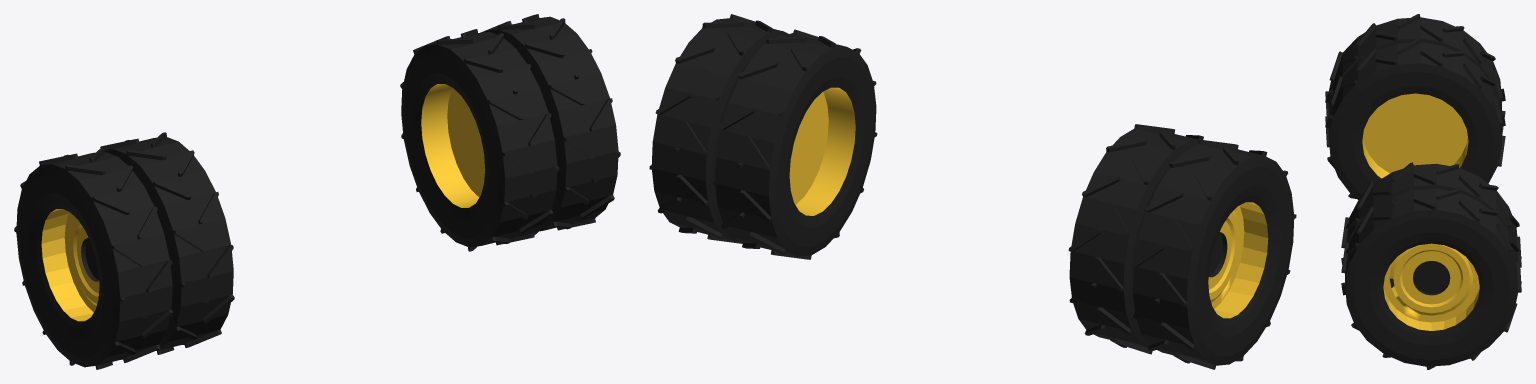
The model's file is Front_Combine_Tires.fbx.
3 renders of one model, left to right at view 1: azimuth 30°, elevation 25°; view 2: azimuth 150°, elevation 25°; view 3: azimuth 270°, elevation 25°, orthographic. The views are drawn at different scales.
Visible parts, largest first — view 1: Group3, Group7, Group4, Group6; view 2: Group7, Group3, Group4, Group6; view 3: Group4, Group6, Group7, Group3.
Boxes of the visible parts, left/top/right/bottom form: Group3: left=400, top=29, right=559, bottom=251; Group7: left=14, top=147, right=173, bottom=369; Group4: left=481, top=14, right=620, bottom=235; Group6: left=100, top=132, right=234, bottom=354; Group7: left=1132, top=139, right=1296, bottom=369; Group3: left=712, top=29, right=877, bottom=259; Group4: left=649, top=14, right=792, bottom=243; Group6: left=1068, top=124, right=1203, bottom=354; Group4: left=1341, top=187, right=1521, bottom=369; Group6: left=1325, top=39, right=1505, bottom=199; Group7: left=1325, top=14, right=1505, bottom=135; Group3: left=1341, top=162, right=1521, bottom=267.
Bounding box in the file's own units: 236 × 93.55 × 94.09.
